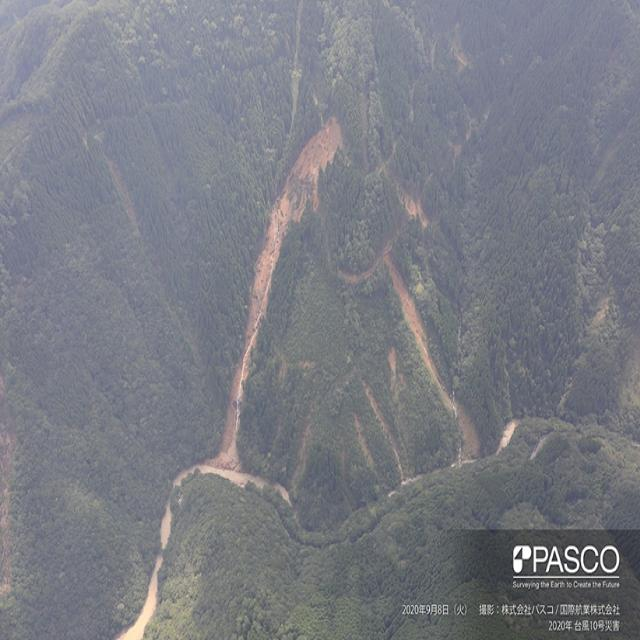Debris-flow: (172, 118, 342, 503), (342, 242, 479, 462), (120, 499, 171, 638), (363, 381, 406, 483), (398, 190, 428, 226), (356, 418, 372, 466), (498, 422, 516, 451), (389, 356, 396, 374)
